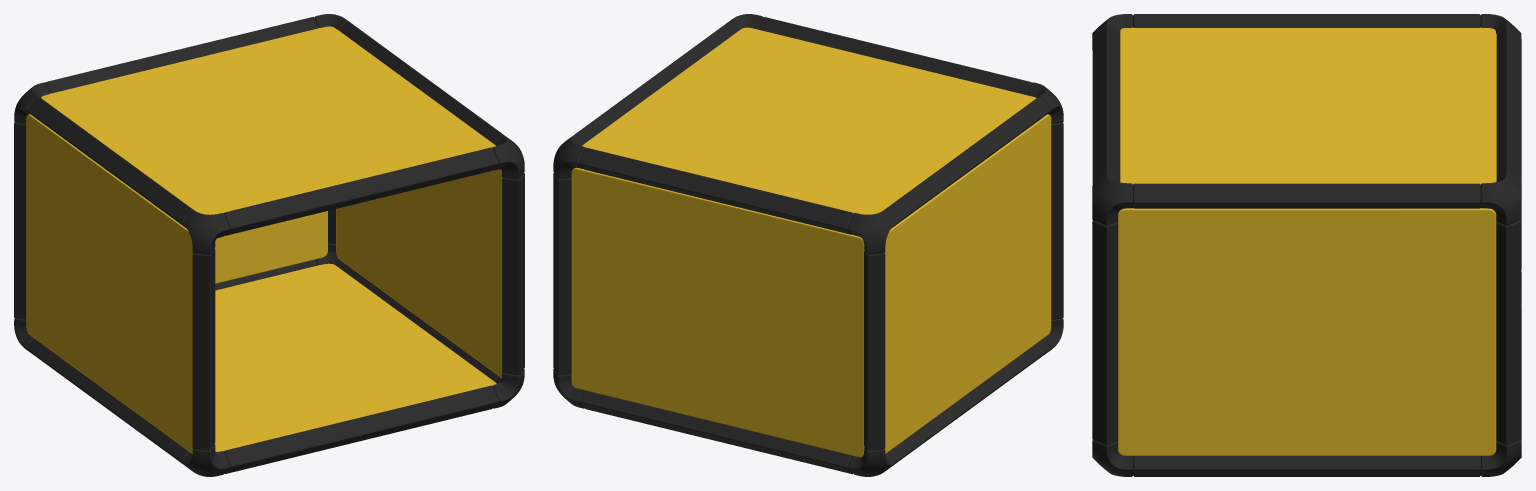
The picture shows the model from 3 angles, left to right: view 1: azimuth 30°, elevation 25°; view 2: azimuth 150°, elevation 25°; view 3: azimuth 270°, elevation 25°; orthographic projection. The views are drawn at different scales.
Parts seen in each view (by area): view 1: 329x329x229; view 2: 329x329x229; view 3: 329x329x229.
Boxes of the visible parts, x1,y1,x2,y2 form: 329x329x229: [14, 14, 524, 476]; 329x329x229: [553, 14, 1063, 476]; 329x329x229: [1092, 14, 1521, 476].
Size of the model in its own units: 0.4067 by 0.3066 by 0.4063.
